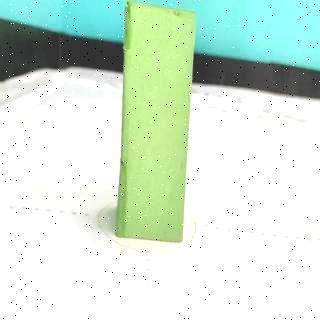greenbox: (118, 0, 200, 242)
